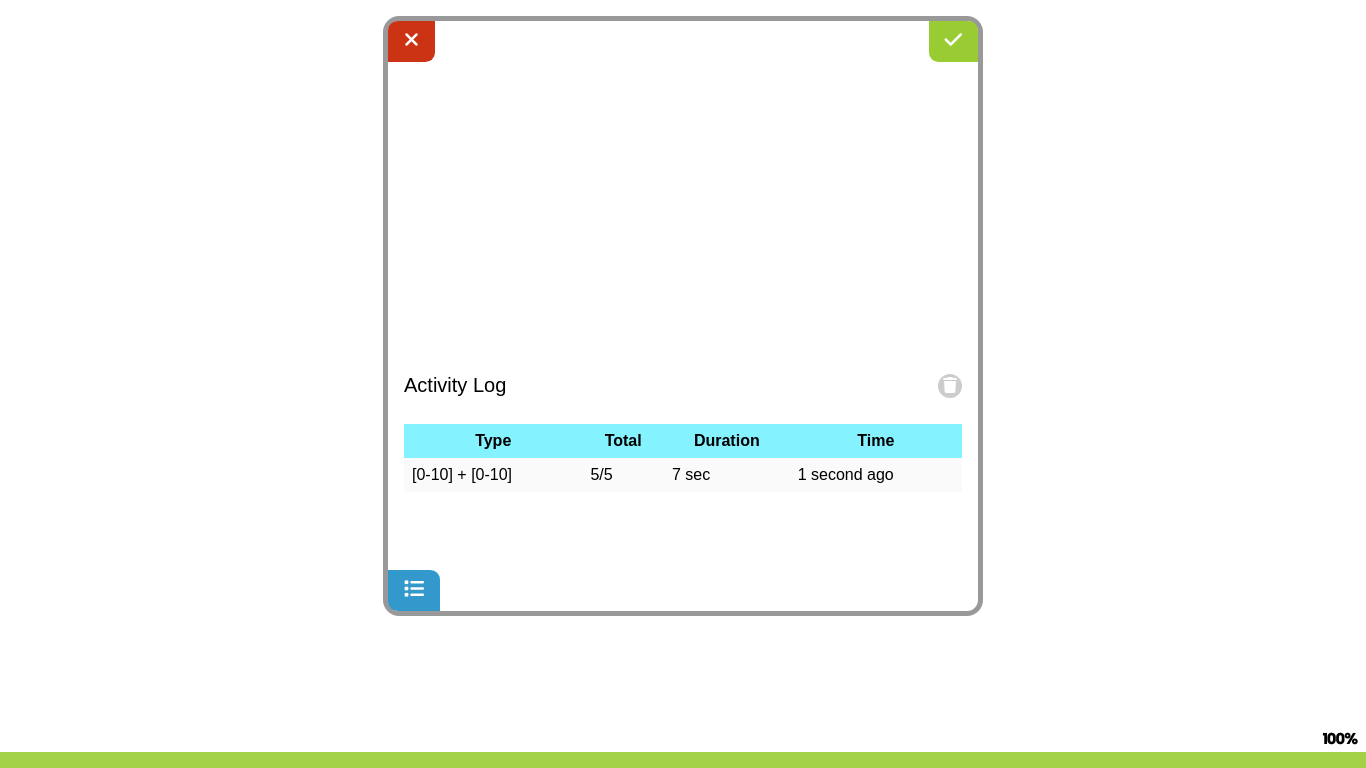
Math Fact Flash App › .click logs button to close logs and go to options card back
Click the button with id "logs" at x=414, y=591, box left=388, top=570, right=440, bottom=611
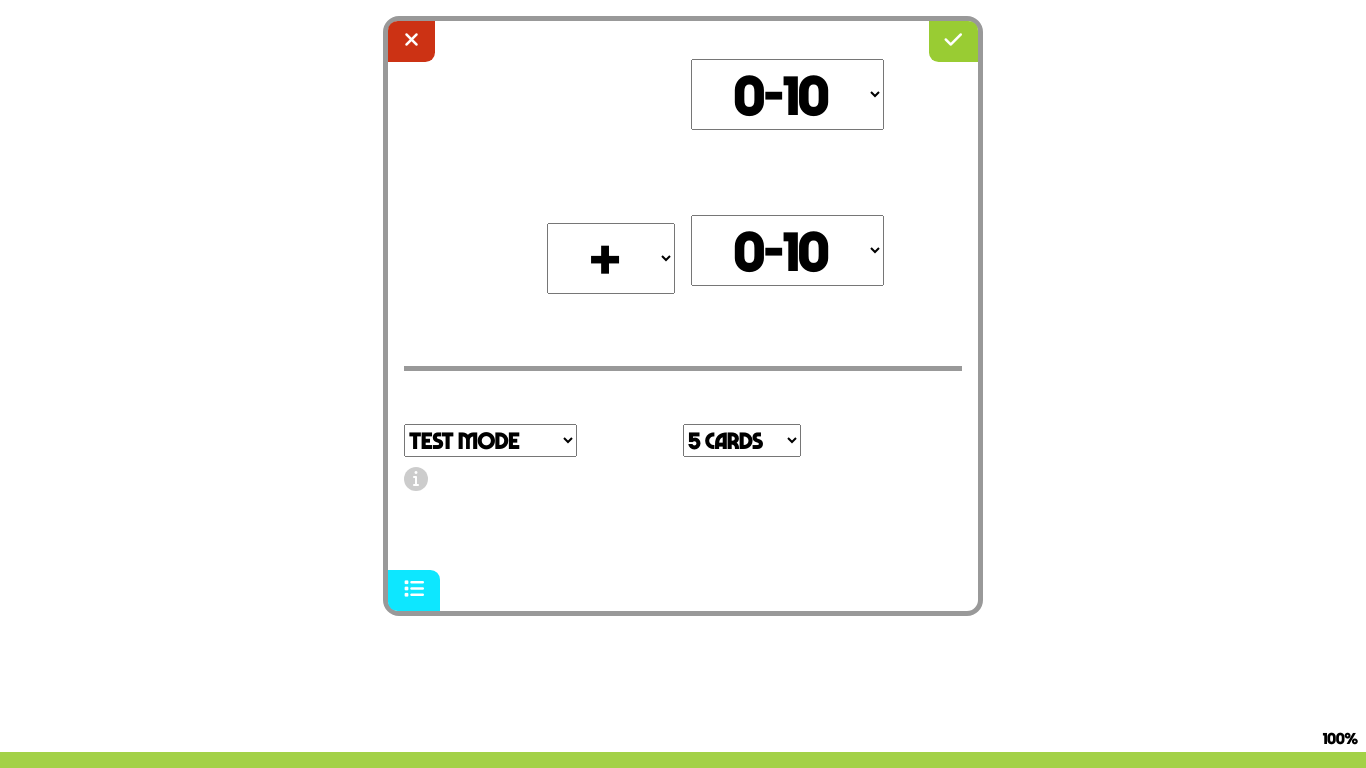
Result: the button with class "log" is gone
